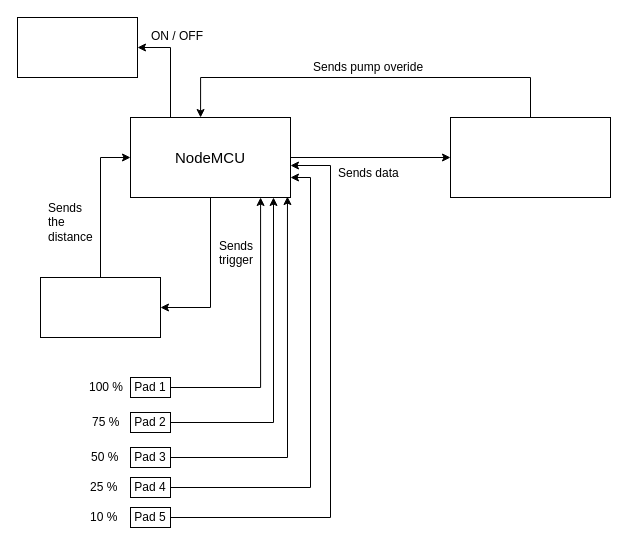
Some shapes in this 628 by 545 pixel diagram are drawn without their labels. Each missing label, with the centre of its shape:
"Process Module" goes at (530,157).
"PUMP" goes at (77,47).
"Ultra-sonic sensor" goes at (100,307).
